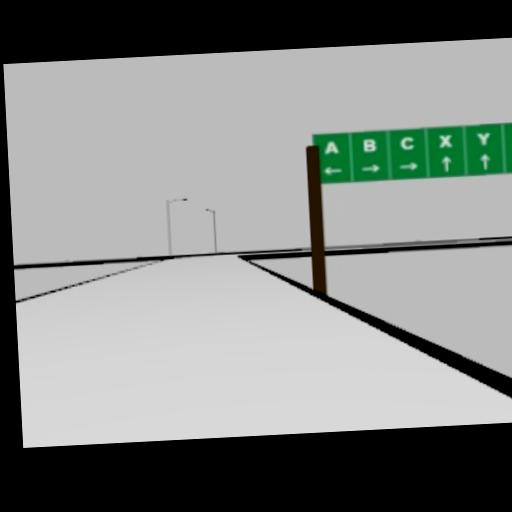Left: (322, 165, 341, 174)
